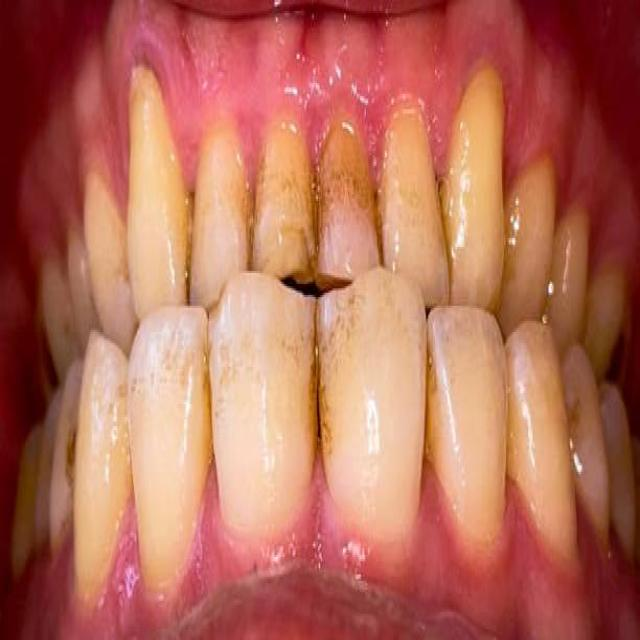caries: (255, 205, 319, 295), (598, 297, 634, 396)
